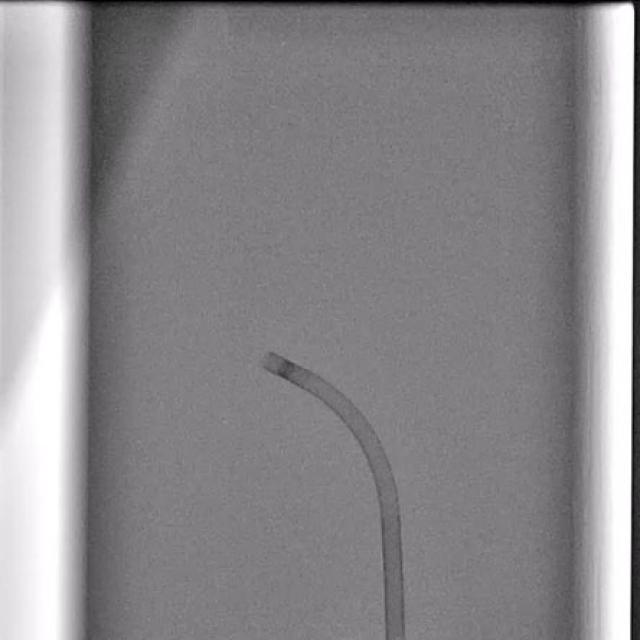bend: (380, 502, 400, 518)
entry: (385, 634, 403, 640)
marker: (278, 359, 297, 380)
tip: (261, 351, 273, 368)
